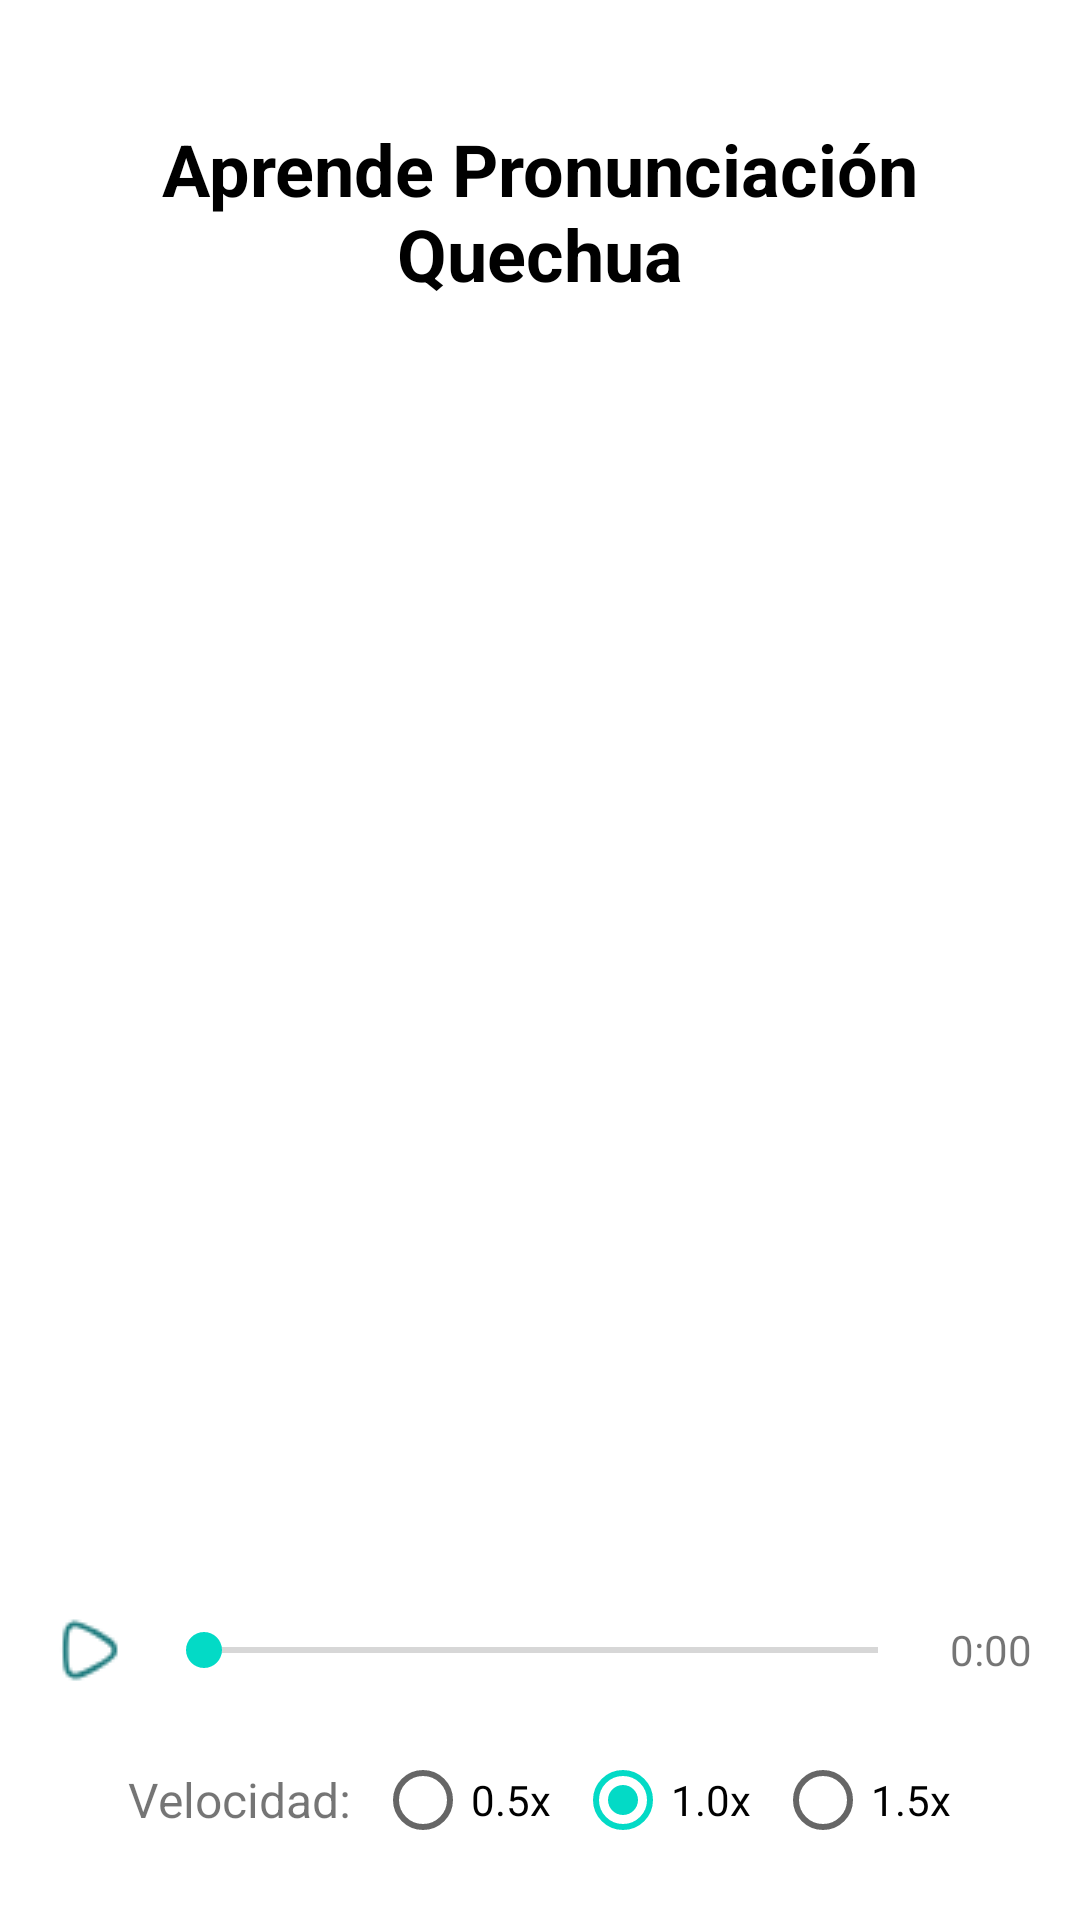

Icons on this 1080 × 1920 Android screen, each with the point to tap as point (x, y):
play: point (90, 1650)
